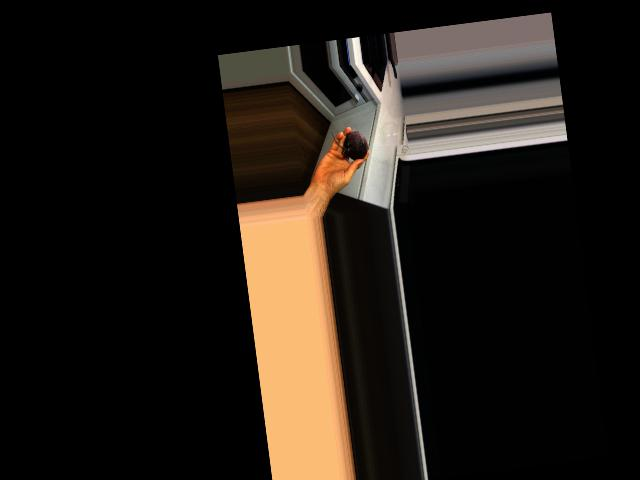beet: (330, 126, 369, 162)
